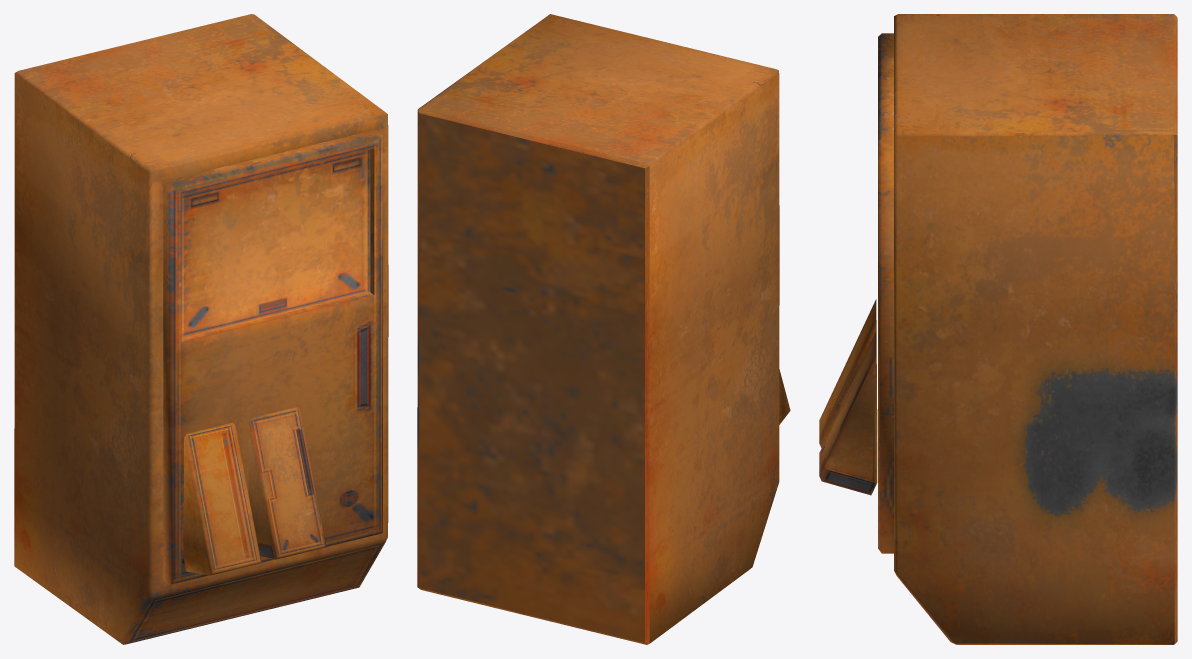
The model's file is 05_01_adon_box_large_02.DAE.
3 views of the same model, side by side, from view 1: azimuth 30°, elevation 25°; view 2: azimuth 150°, elevation 25°; view 3: azimuth 270°, elevation 25° (orthographic). The views are drawn at different scales.
Visible parts, largest first — view 1: box2; view 2: box2; view 3: box2.
Part boxes in pixels (x1,y1,x2,y2): box2: (14,14,388,644); box2: (417,14,790,644); box2: (819,14,1177,644).
Bounding box in the file's own units: 0.7301 × 1.45 × 0.915.
